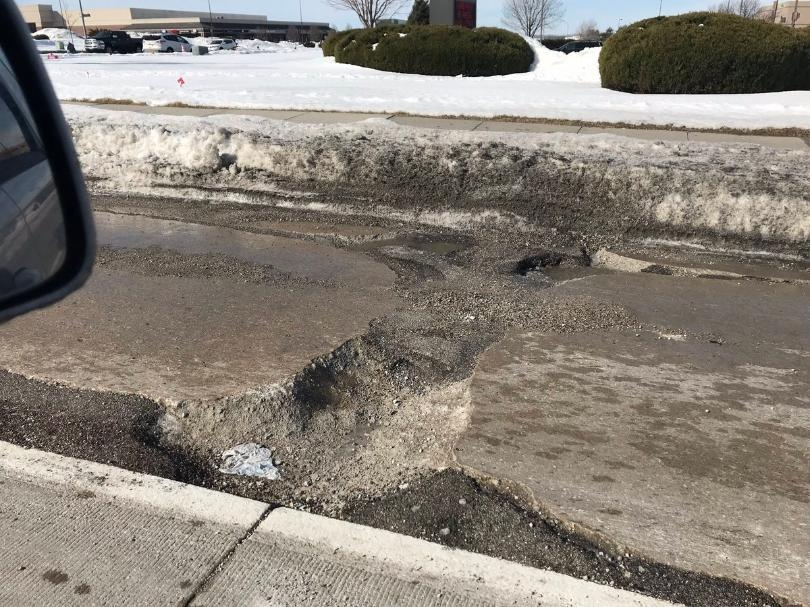pothole: (179, 228, 540, 503), (392, 168, 708, 300)
